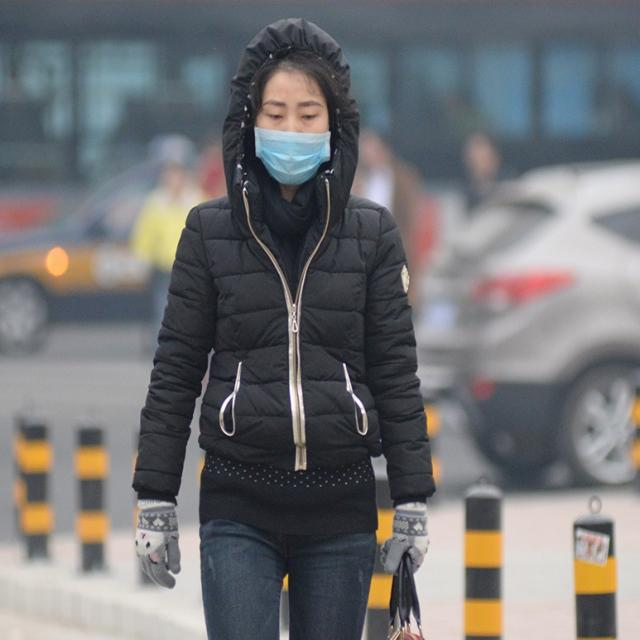mask: (256, 67, 330, 179)
